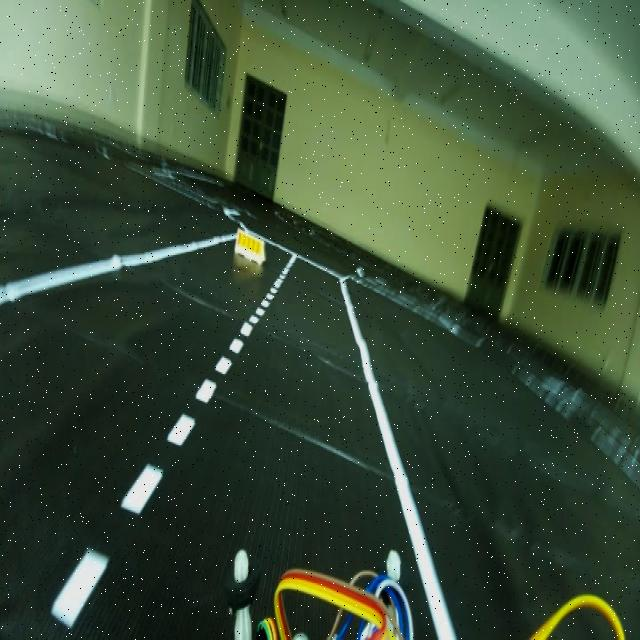roadblock: (233, 220, 277, 276)
